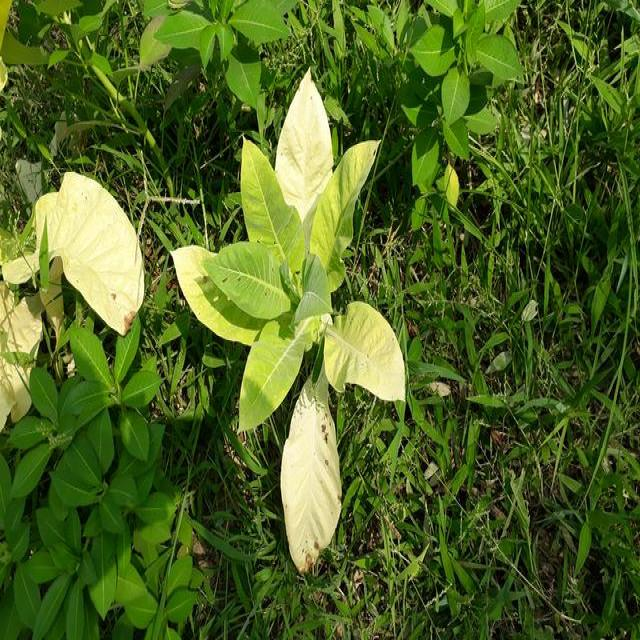crop: (179, 64, 412, 560), (0, 190, 125, 385)
